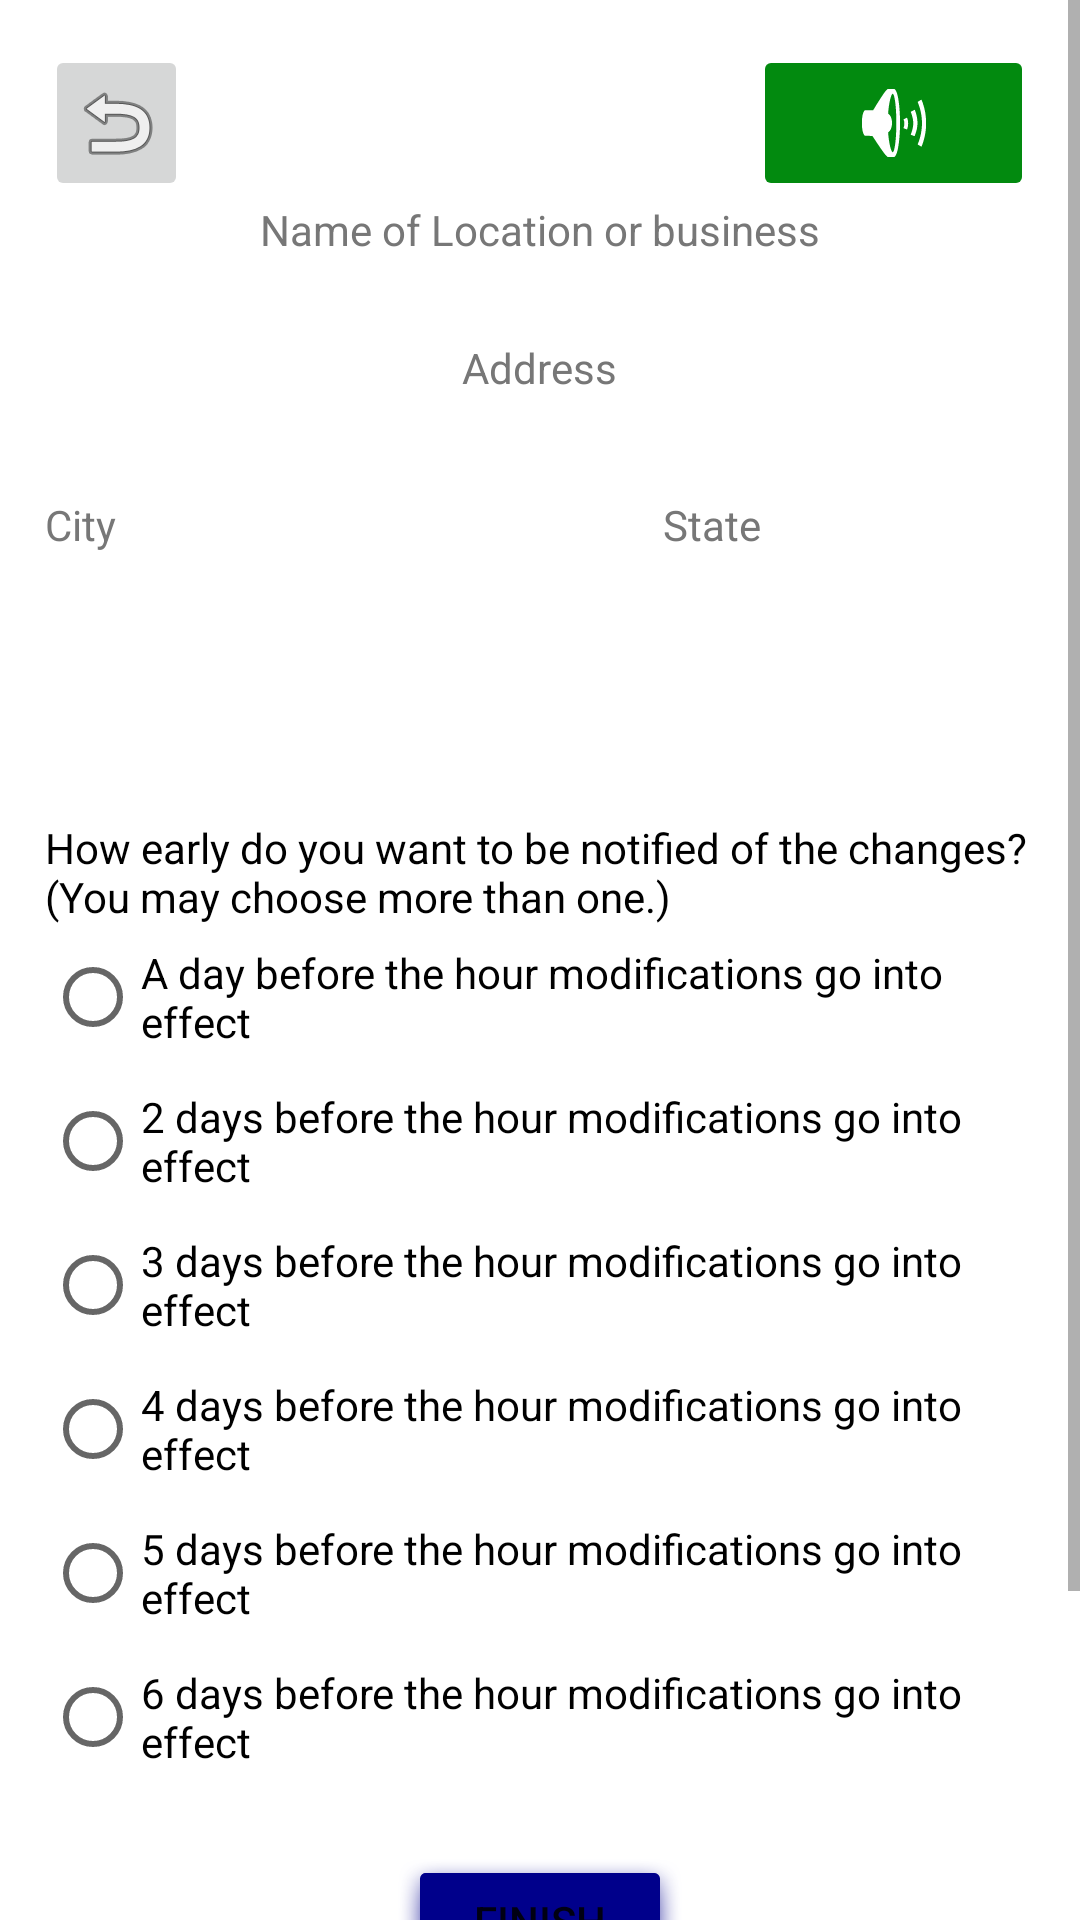

Named icons in this screenshot (1080w x 1920h) and their centers, point (x, y):
lock silent mode off: point (893, 123)
revert: point (116, 123)
